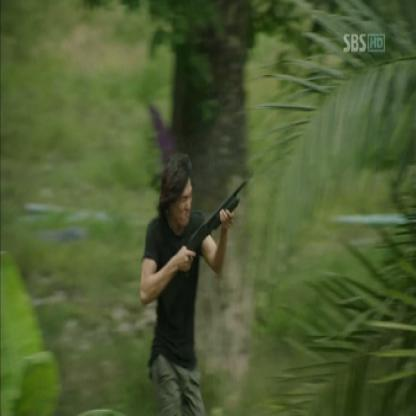Guns: (174, 171, 248, 275)
